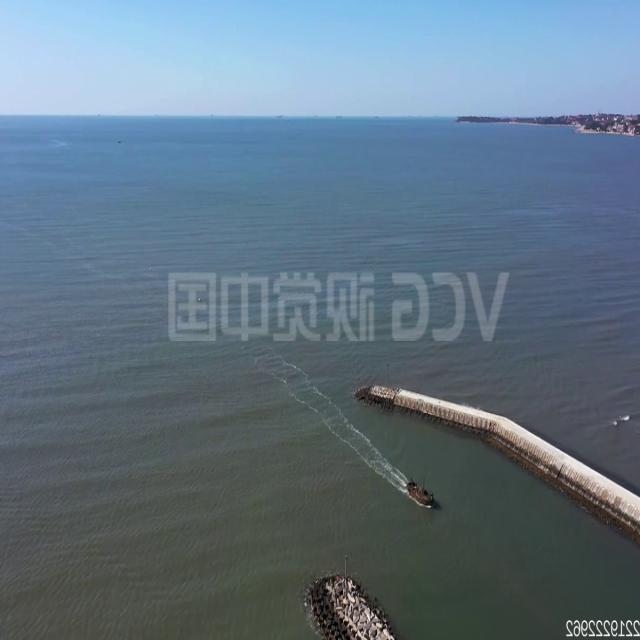houseboat: (405, 472, 437, 512)
